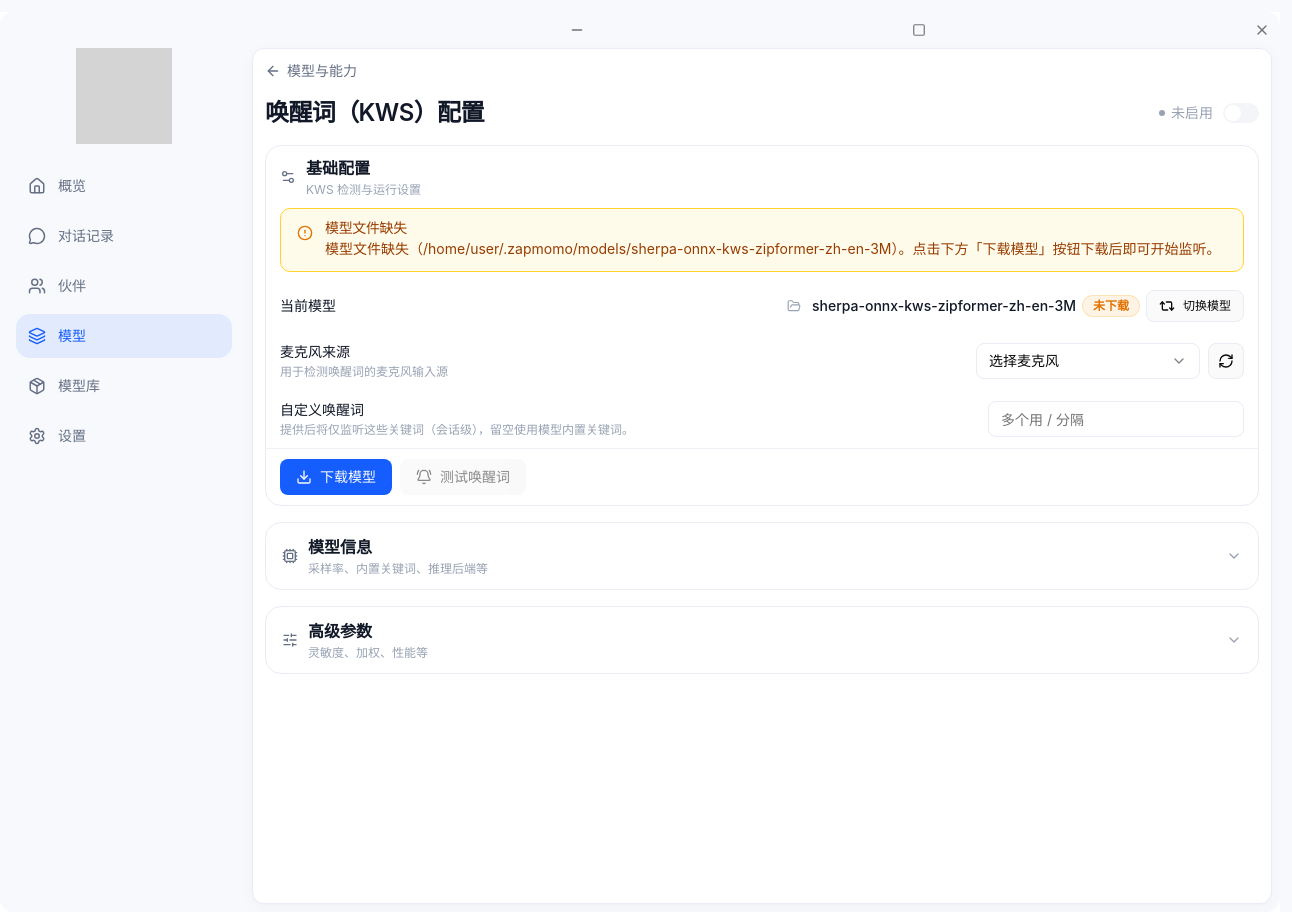
Test: KwsPage（唤醒词配置） › 模型信息默认折叠，点击展开显示只读字段
Expected: the text "sherpa-onnx-kws-zipformer-zh-en-3M" is shown, x1=812 y1=296 x2=1076 y2=316
Click the button "模型信息 采样率、内置关键词、推理后端等": click(340, 547) x1=266 y1=523 x2=1258 y2=589
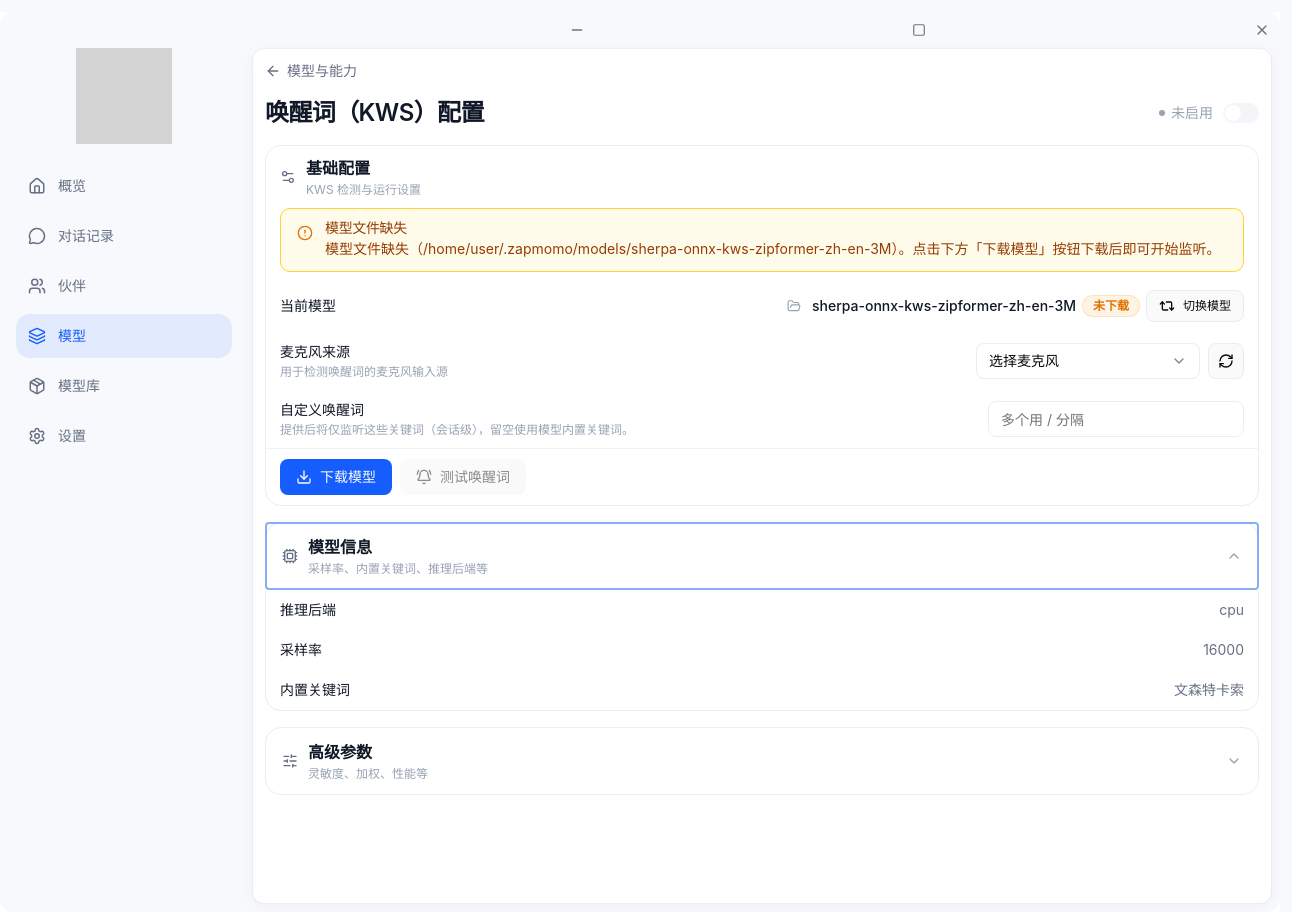
Expected: the text "推理后端" is shown, x1=280 y1=600 x2=336 y2=620
Now the button "模型信息 采样率、内置关键词、推理后端等" is expanded, box x1=266 y1=523 x2=1258 y2=589
